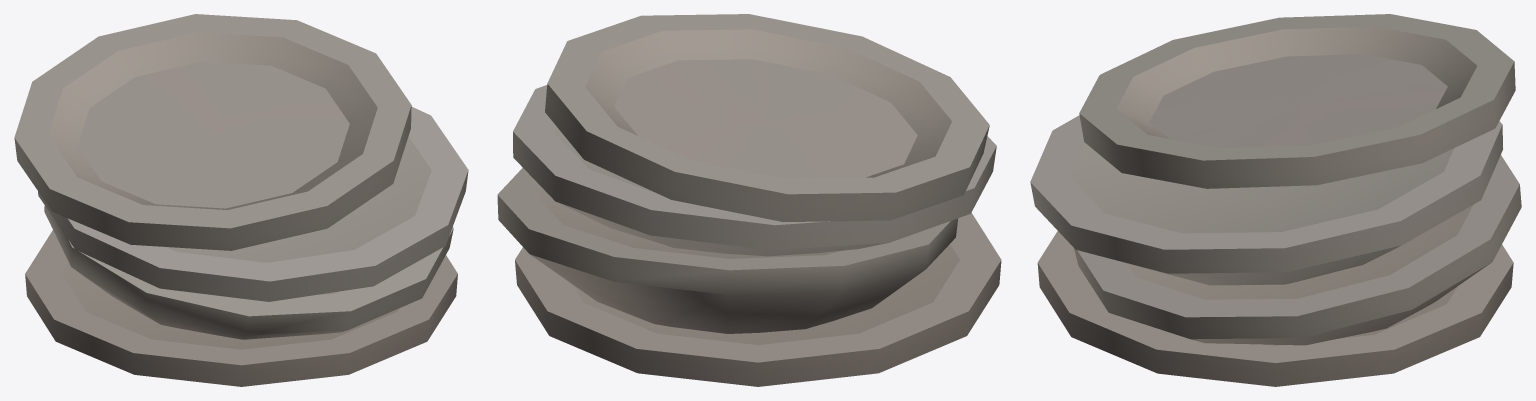
File: plate_stack.glb
3 views of the same model, side by side, from view 1: azimuth 30°, elevation 25°; view 2: azimuth 150°, elevation 25°; view 3: azimuth 270°, elevation 25° (orthographic). The views are drawn at different scales.
Visible parts, largest first — view 1: plate_stack; view 2: plate_stack; view 3: plate_stack.
Part boxes in pixels (box(x1,y1,x2,y2)): plate_stack: box(14, 14, 468, 386); plate_stack: box(497, 14, 1001, 386); plate_stack: box(1030, 14, 1521, 386).
Size of the model in its own units: 0.9971 by 0.5639 by 1.
Materials: 1 (1 with a texture image).
